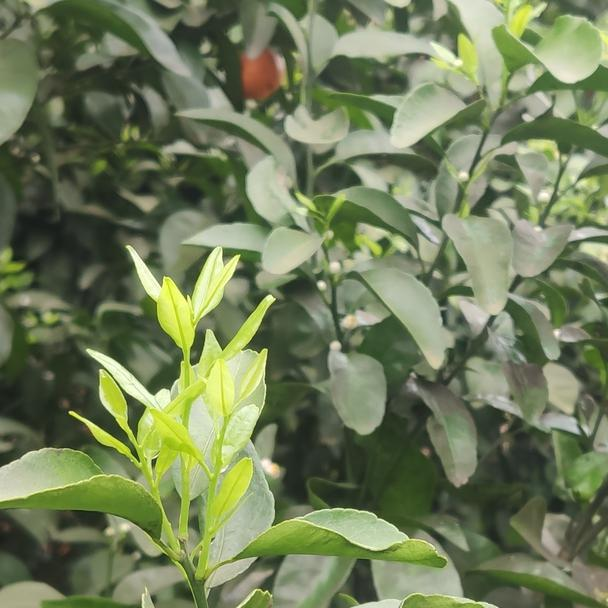shoot: (113, 243, 274, 420), (185, 359, 272, 535), (97, 390, 192, 519)
